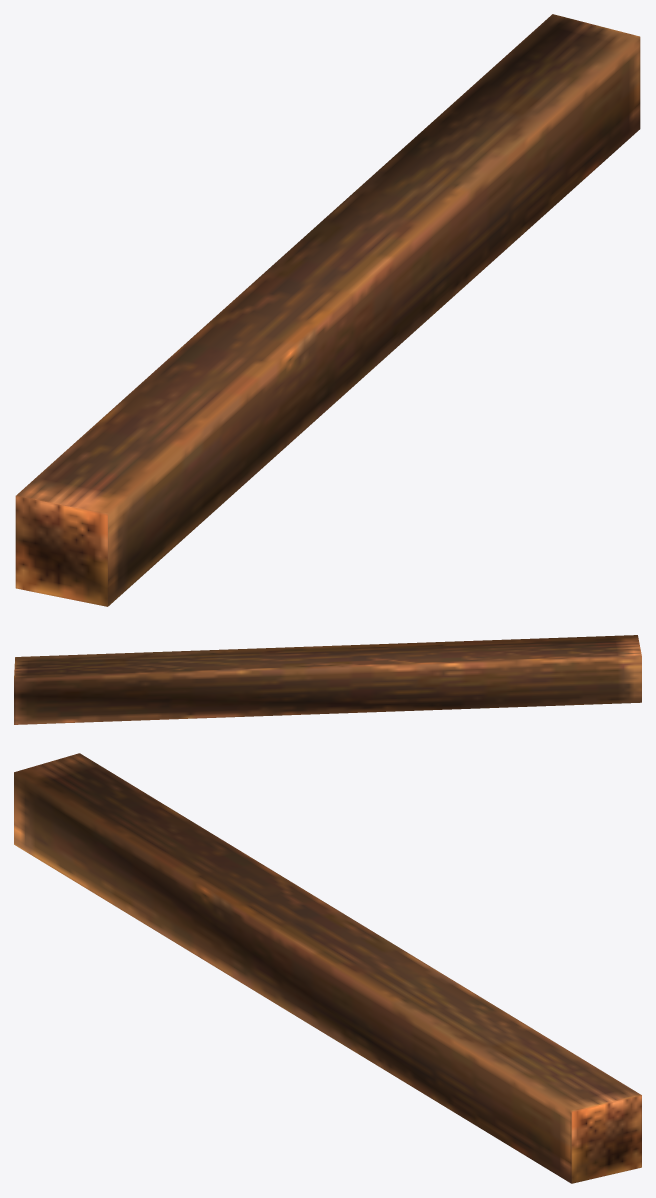
Rendered from SWORDLIGHT20_JAILBRACE15.fbx.
3 views of the same model, one above another, from view 1: azimuth 30°, elevation 25°; view 2: azimuth 150°, elevation 25°; view 3: azimuth 270°, elevation 25° (orthographic). The views are drawn at different scales.
Parts seen in each view (by area): view 1: SWORDLIGHT20_JAILBRACE15; view 2: SWORDLIGHT20_JAILBRACE15; view 3: SWORDLIGHT20_JAILBRACE15.
Boxes of the visible parts, x1=… form: SWORDLIGHT20_JAILBRACE15: x1=15, y1=14, x2=640, y2=606; SWORDLIGHT20_JAILBRACE15: x1=14, y1=635, x2=641, y2=724; SWORDLIGHT20_JAILBRACE15: x1=14, y1=753, x2=641, y2=1183.
Bounding box in the file's own units: 42489 × 4000 × 31465.
1 material, 1 textured.
